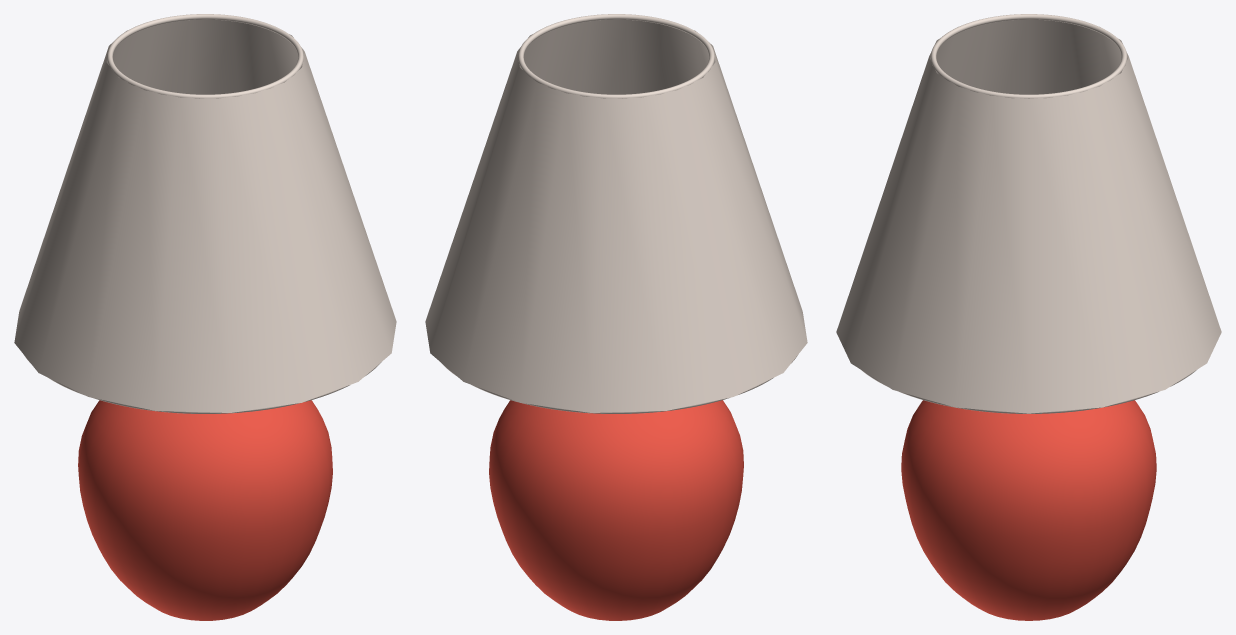
Rendered from Lamp.glb.
3 renders of one model, left to right at view 1: azimuth 30°, elevation 25°; view 2: azimuth 150°, elevation 25°; view 3: azimuth 270°, elevation 25°, orthographic.
Parts seen in each view (by area): view 1: Cylinder, Vert, Cylinder.002; view 2: Cylinder, Vert, Cylinder.002; view 3: Cylinder, Vert, Cylinder.002.
Boxes of the visible parts, left/top/right/bottom form: Cylinder: left=14, top=19, right=396, bottom=412; Vert: left=78, top=400, right=332, bottom=620; Cylinder.002: left=24, top=14, right=381, bottom=413; Cylinder: left=425, top=19, right=807, bottom=412; Vert: left=489, top=400, right=743, bottom=620; Cylinder.002: left=440, top=14, right=797, bottom=413; Cylinder: left=836, top=19, right=1221, bottom=413; Vert: left=901, top=400, right=1156, bottom=620; Cylinder.002: left=861, top=14, right=1196, bottom=413.
Size of what is drawn, in the model's own units: 2.09 by 3.26 by 2.09.
